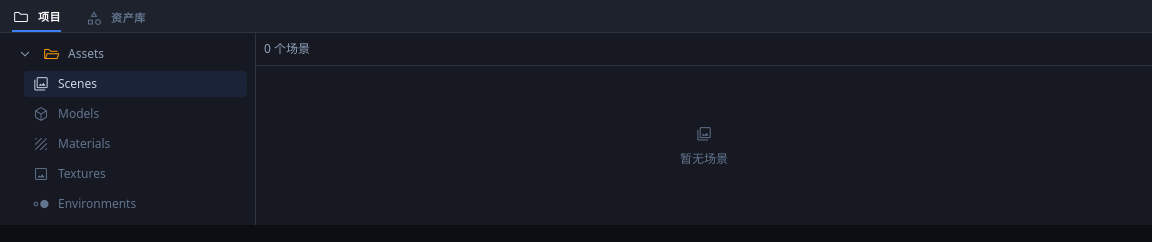
Test case: ProjectPanel IBL integration › shows only runtime IBL assets and the HDR EXR import button in the Environments folder
Click the text "Environments". click: (97, 204)
box: [58,196,136,212]
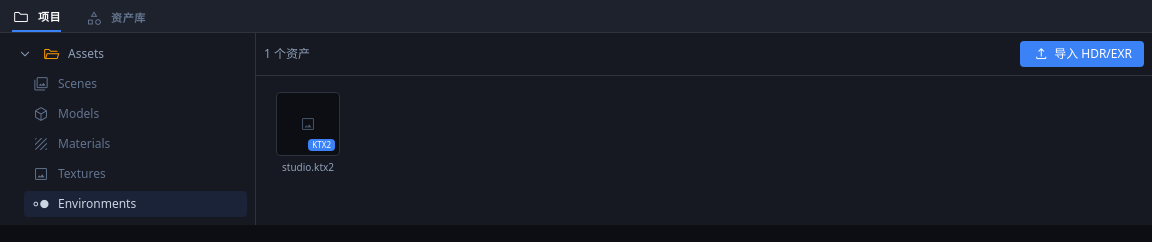
Expected: the text "studio.ktx2" is shown, [282,160,334,174]
Expected: the button "导入 HDR/EXR" is shown, [1020,41,1144,67]
